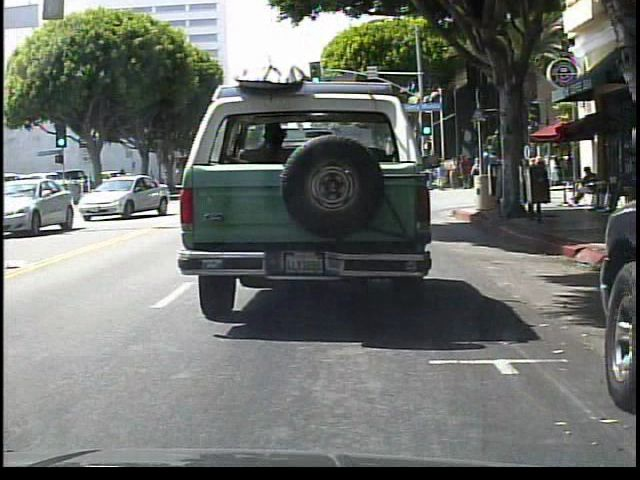person: (572, 166, 600, 209), (500, 149, 517, 215), (481, 144, 497, 205), (468, 155, 483, 205), (534, 158, 547, 202), (527, 163, 539, 202), (436, 161, 449, 194), (448, 157, 459, 190), (549, 156, 559, 185), (462, 155, 470, 190), (427, 167, 430, 191)
